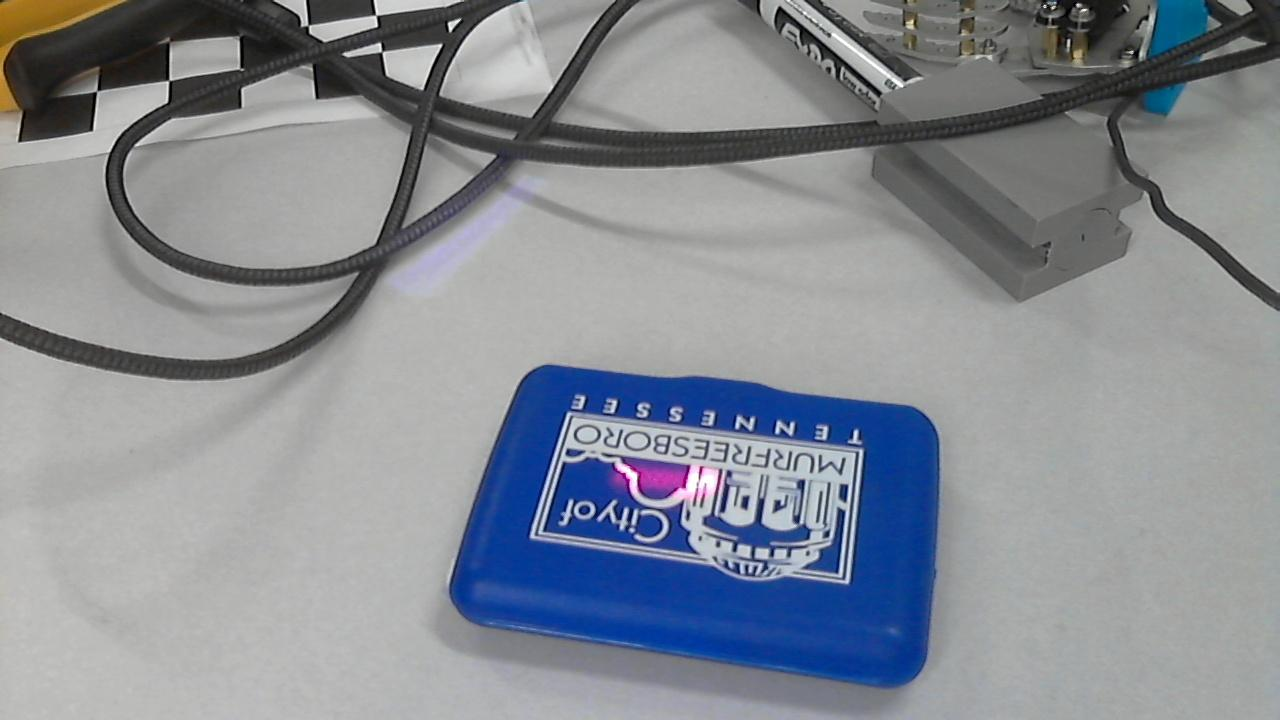Object plastic first aid kit - Material plastic - Color blue and white - Pdfname: (600, 444, 733, 507)
